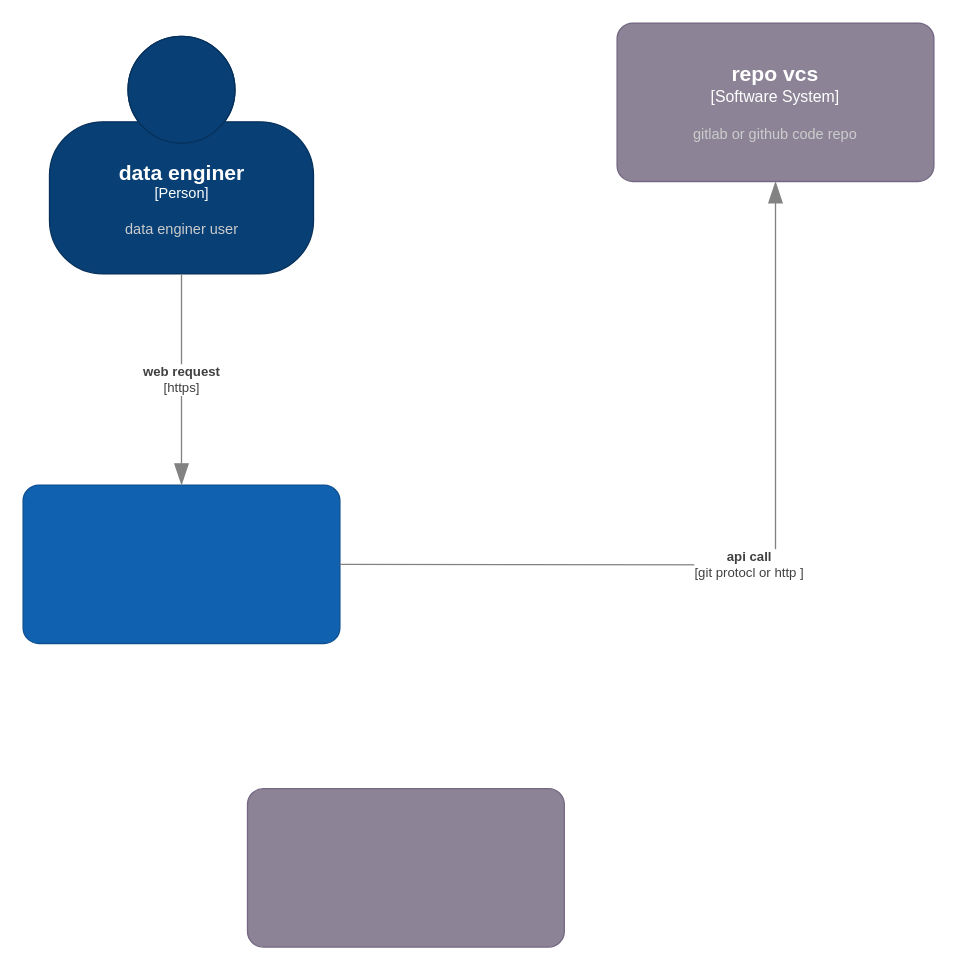
Image size: 957x970. Some labels were removed from this diagram. The shapes that lost their labels are listed below. From the top down, each one's centre as x and y in pixels, then its label:
the point at 181,564: datafold [Software System] datafold application
the point at 405,867: do model create [Software System] dbt or dbt cloud
